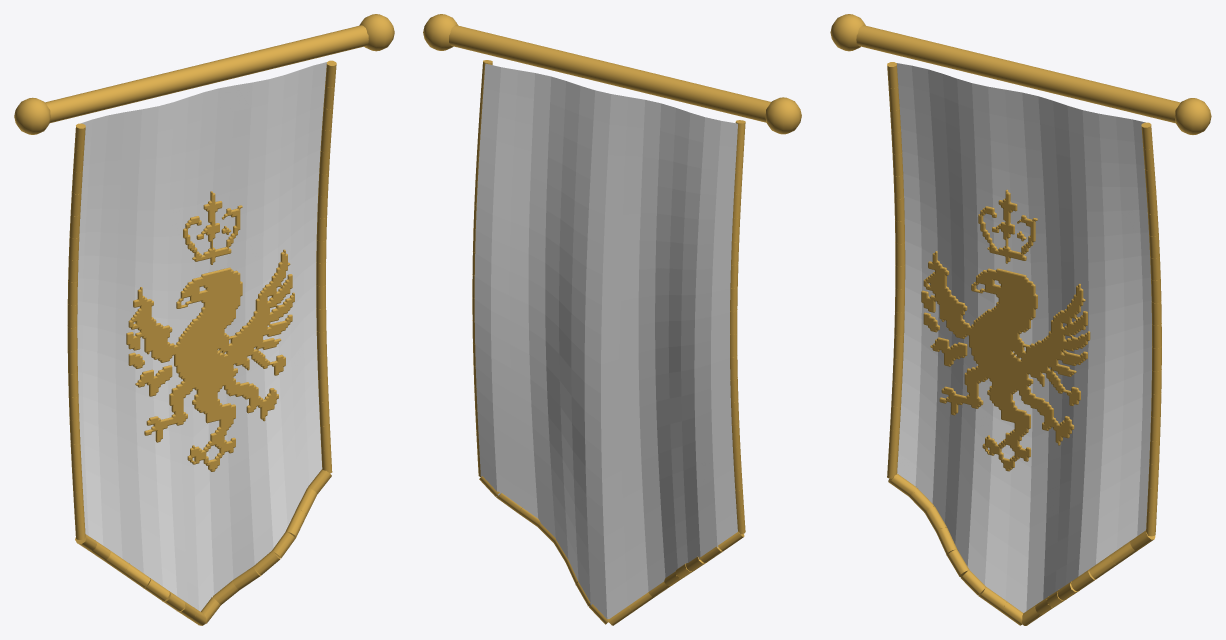
The model's file is 13_royal_banner.glb.
3 renders of one model, left to right at view 1: azimuth 30°, elevation 25°; view 2: azimuth 150°, elevation 25°; view 3: azimuth 330°, elevation 25°, orthographic.
Parts seen in each view (by area): view 1: 13_royal_banner; view 2: 13_royal_banner; view 3: 13_royal_banner.
Part boxes in pixels (x1,y1,x2,y2): 13_royal_banner: (14, 14, 394, 625); 13_royal_banner: (423, 14, 801, 625); 13_royal_banner: (830, 14, 1211, 625).
Bounding box in the file's own units: 2.08 × 3.01 × 0.2339.
